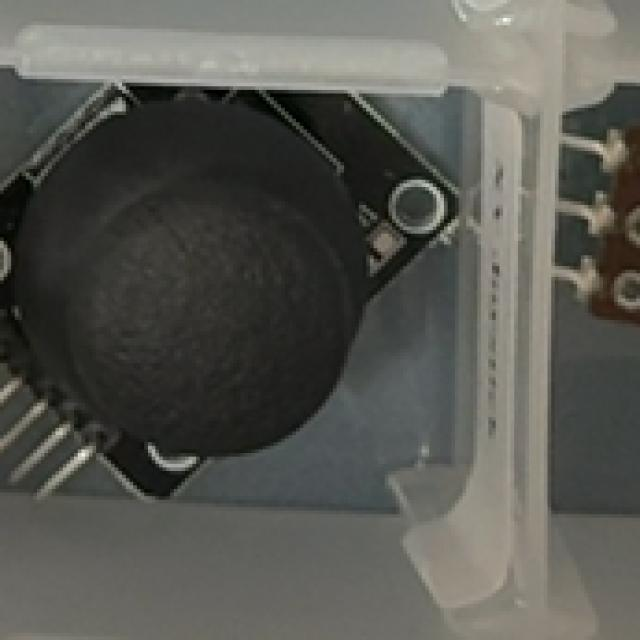XY Joystick: (0, 7, 466, 507)
